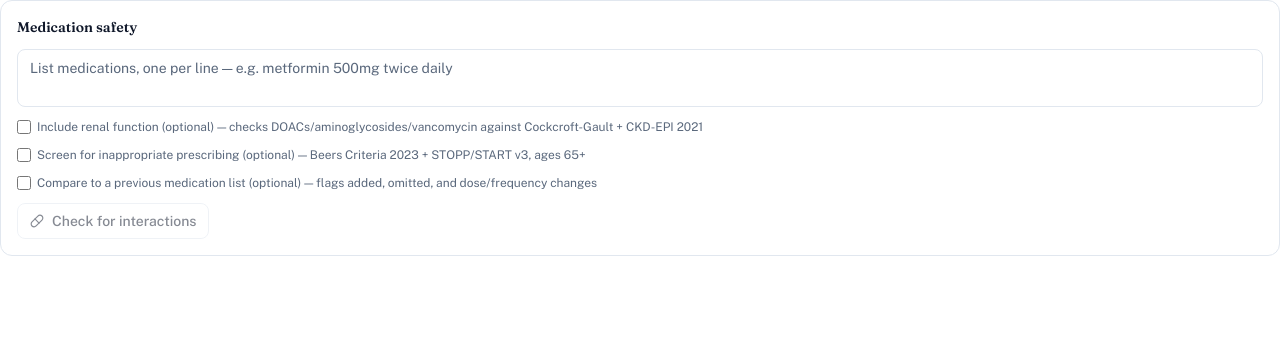
MedicationPanel › discrepancy classification › reveals the previous-list textarea when the checkbox is checked
Check: the field with placeholder "list the previous medications" is not shown
What coordinates should you click on to do the following:
click the checkbox labelled "Compare to a previous"
I would click on:
 (24, 183)
Its box is 17,176 -> 31,190.
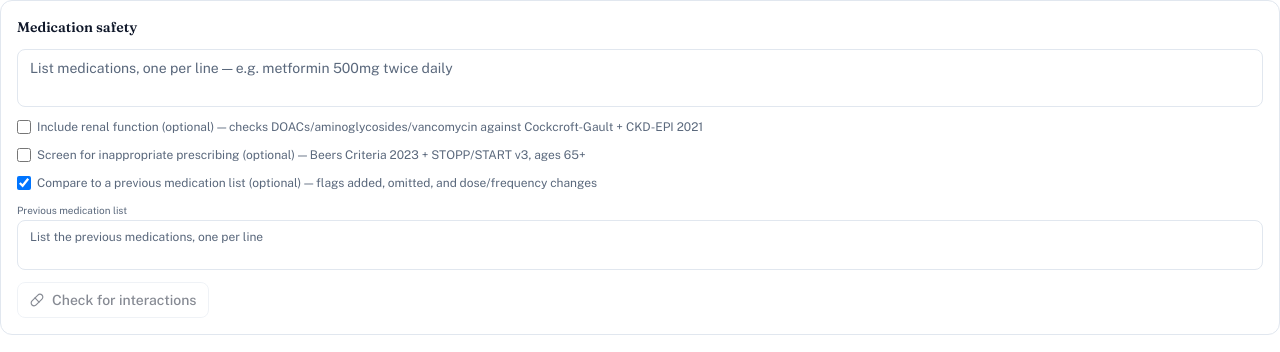
Check: the text box with placeholder "List the previous medications, one per line" is shown, box 17,220 -> 1263,270
